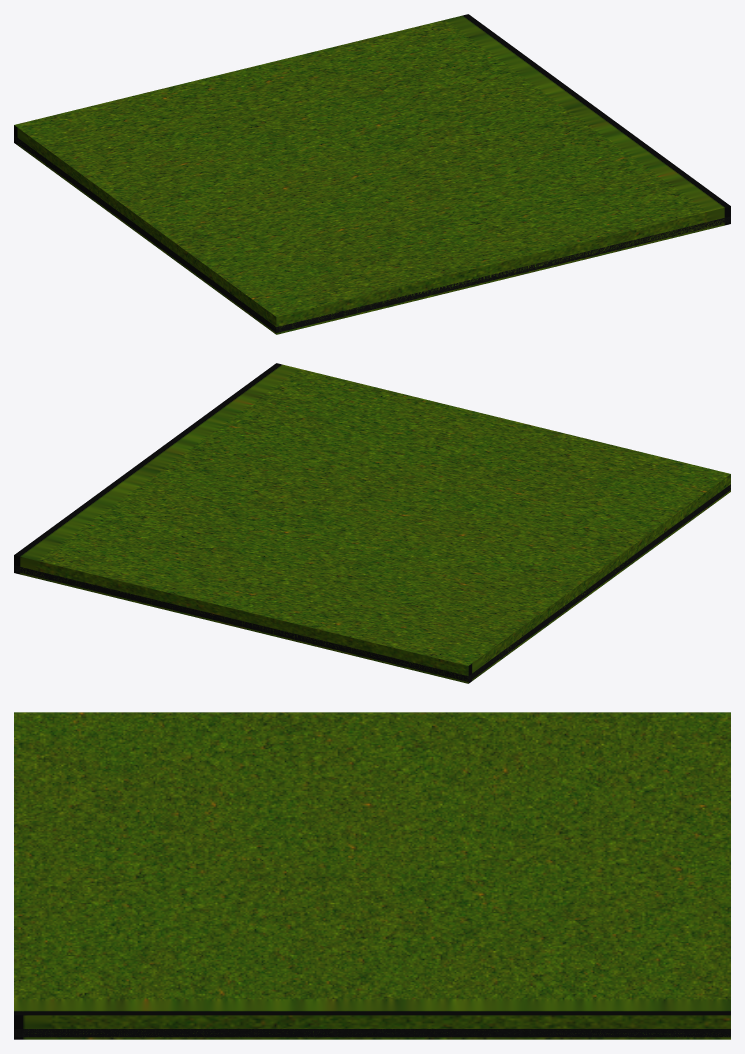
The model's file is ground_tiles.glb.
3 views of the same model, one above another, from view 1: azimuth 30°, elevation 25°; view 2: azimuth 150°, elevation 25°; view 3: azimuth 270°, elevation 25° (orthographic). The views are drawn at different scales.
Parts seen in each view (by area): view 1: grass_test -col, road_straight -col, road_parking -col, road_T -col; view 2: grass_test -col, road_straight -col, road_parking -col, road_T -col; view 3: grass_test -col, road_straight -col, road_parking -col, road_blank-col.
Boxes of the visible parts, x1,y1,x2,y2 form: grass_test -col: (14, 14, 730, 334); road_straight -col: (14, 135, 730, 332); road_parking -col: (14, 136, 706, 332); road_T -col: (279, 227, 707, 331); grass_test -col: (14, 363, 730, 683); road_straight -col: (14, 484, 730, 681); road_parking -col: (16, 484, 730, 680); road_T -col: (16, 566, 442, 675); grass_test -col: (14, 712, 730, 1039); road_straight -col: (14, 1029, 730, 1037); road_parking -col: (14, 1029, 730, 1037); road_blank-col: (14, 1029, 729, 1037).
Bounding box in the file's own units: 8 × 0.3 × 8.
Materials: 9 (8 with a texture image).
